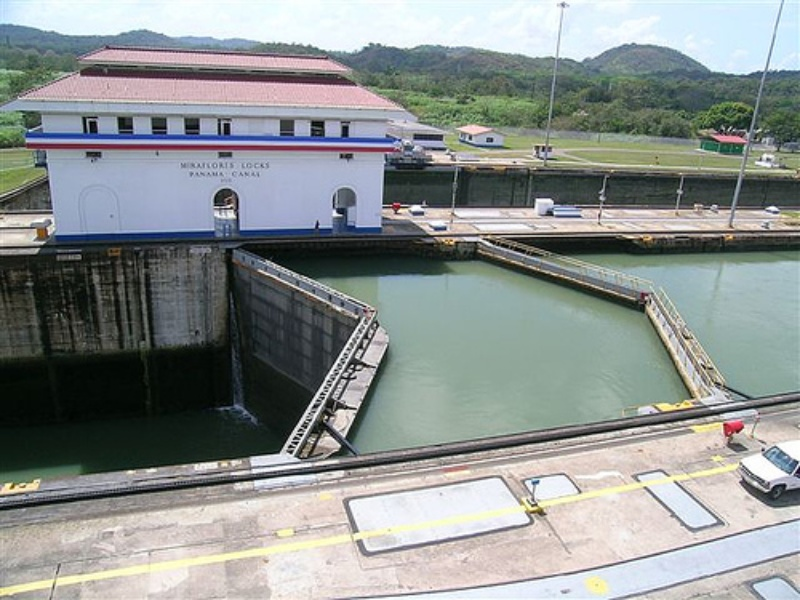car: (737, 438, 800, 501)
